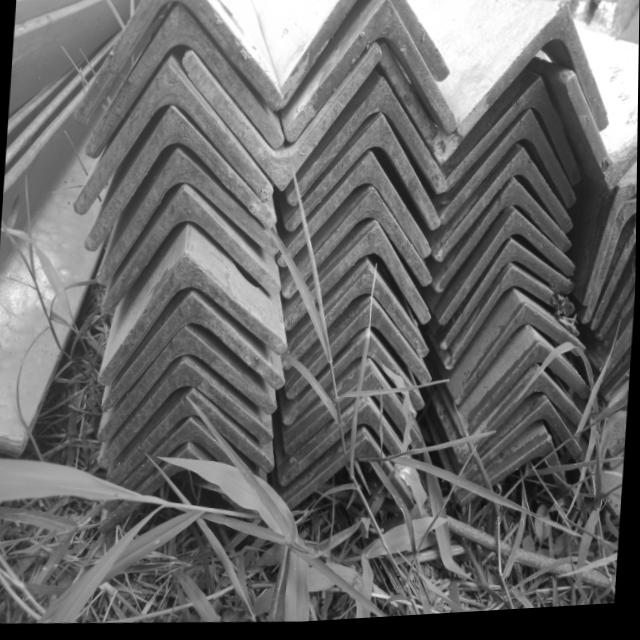metal-angles: (86, 6, 285, 160), (74, 66, 275, 216), (182, 50, 381, 194), (85, 108, 277, 252), (75, 0, 284, 127), (97, 149, 280, 286), (98, 257, 289, 388), (288, 2, 458, 147), (103, 190, 282, 316), (102, 296, 286, 415), (98, 328, 279, 445), (458, 9, 610, 143), (289, 84, 448, 210), (99, 363, 275, 470), (287, 119, 442, 236), (279, 161, 432, 272), (283, 191, 433, 303), (441, 218, 576, 334), (442, 117, 577, 232), (446, 84, 583, 197), (110, 393, 276, 486), (287, 230, 433, 335), (437, 187, 572, 300), (438, 157, 573, 268), (289, 304, 434, 406), (285, 273, 430, 375), (442, 247, 576, 356), (456, 311, 587, 412), (285, 338, 425, 430), (449, 273, 575, 375), (288, 376, 426, 462), (461, 377, 585, 472), (469, 348, 594, 442), (281, 407, 405, 494), (287, 440, 417, 514), (463, 408, 584, 487), (282, 0, 359, 115), (567, 82, 638, 197), (124, 421, 237, 491), (463, 446, 572, 513), (583, 208, 637, 330), (584, 191, 637, 312), (388, 0, 450, 86)
